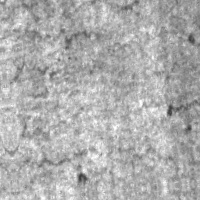crazing: (20, 131, 199, 198), (0, 13, 109, 88), (9, 0, 164, 25)
